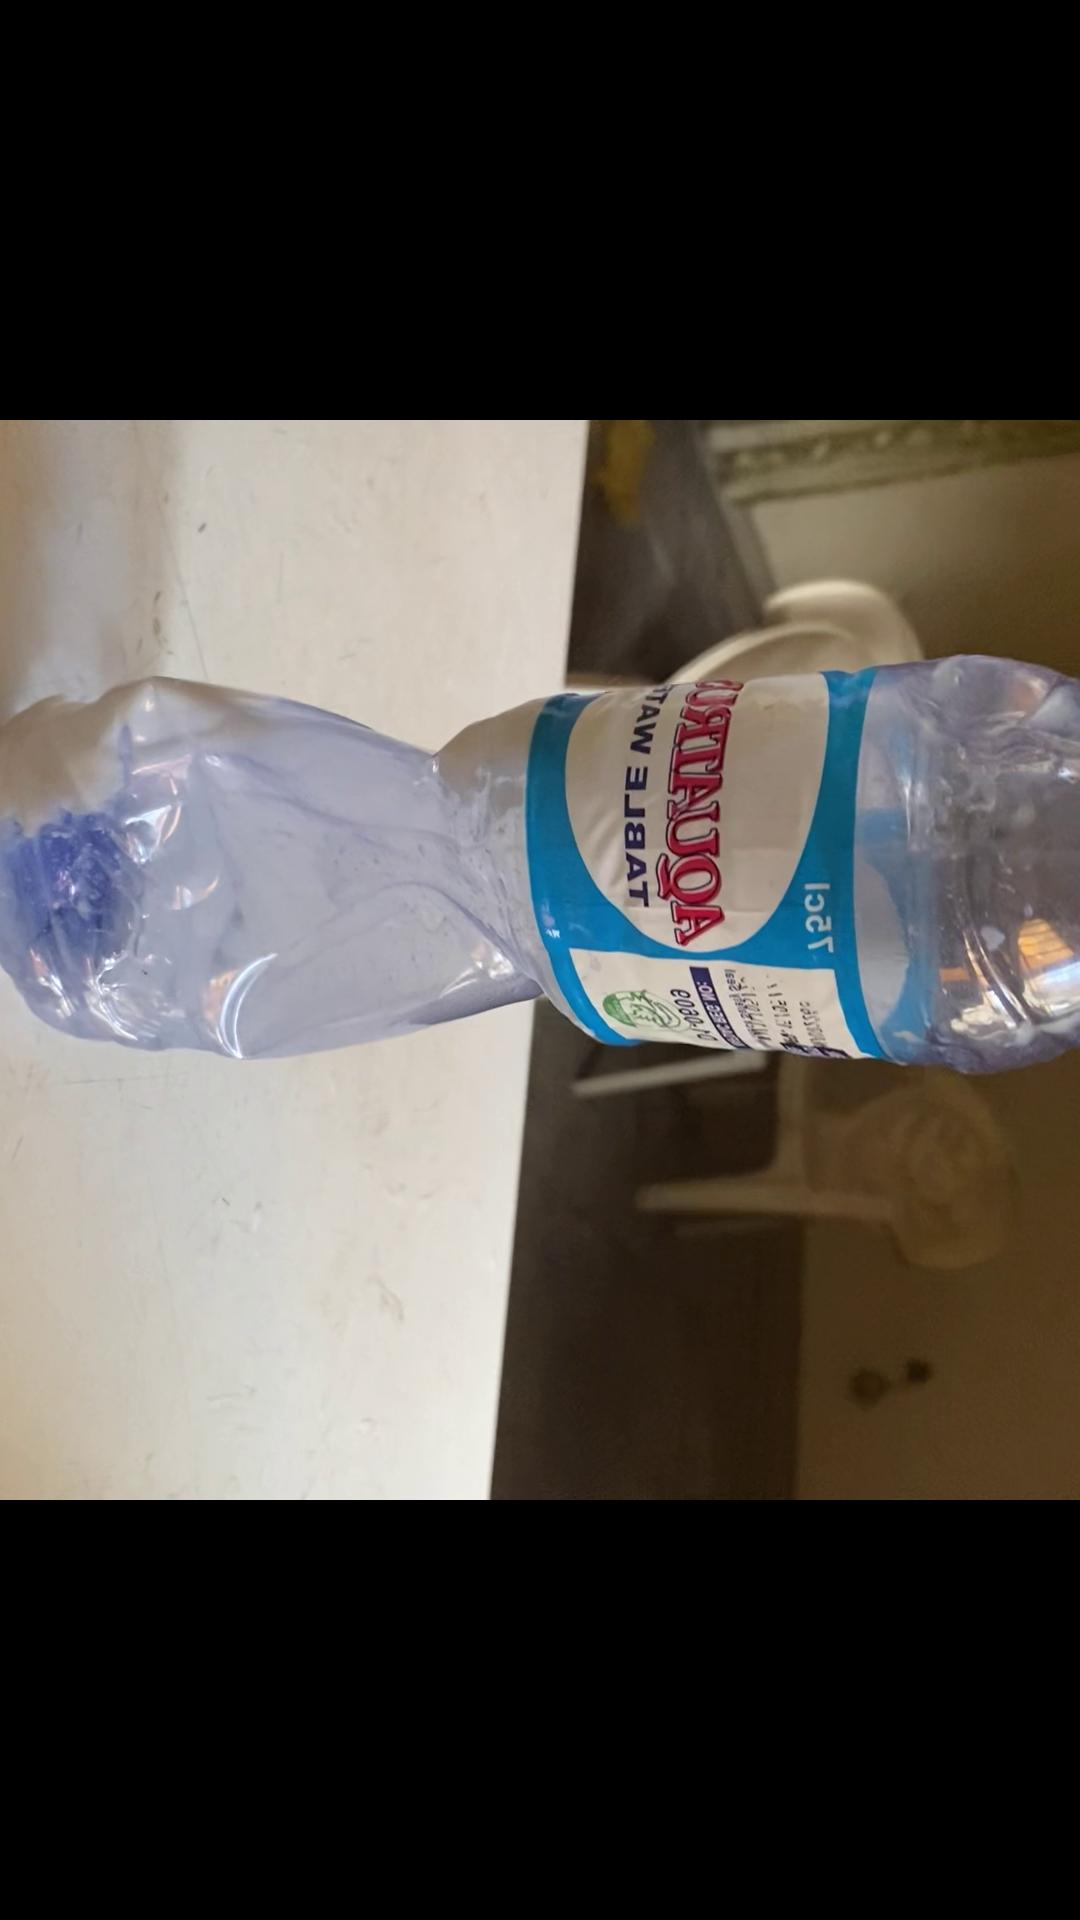crumbled: (0, 638, 1080, 1087)
label: (524, 695, 873, 1059)
